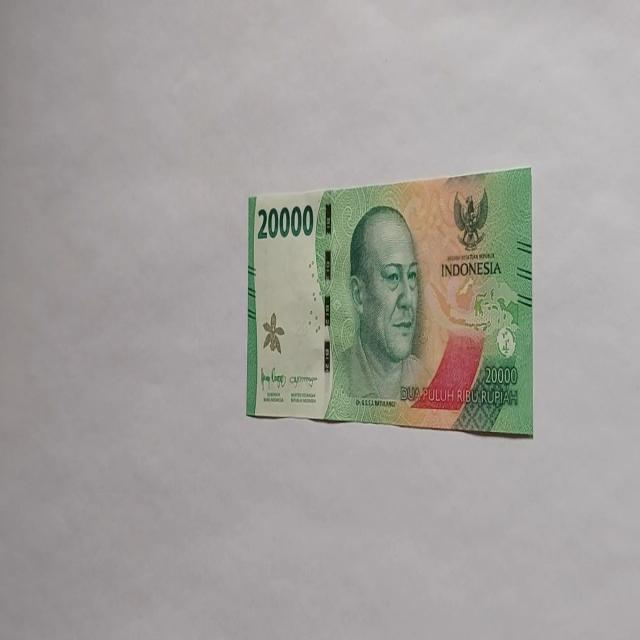dua puluh ribu rupiah: (245, 166, 533, 436), (325, 202, 435, 422)
